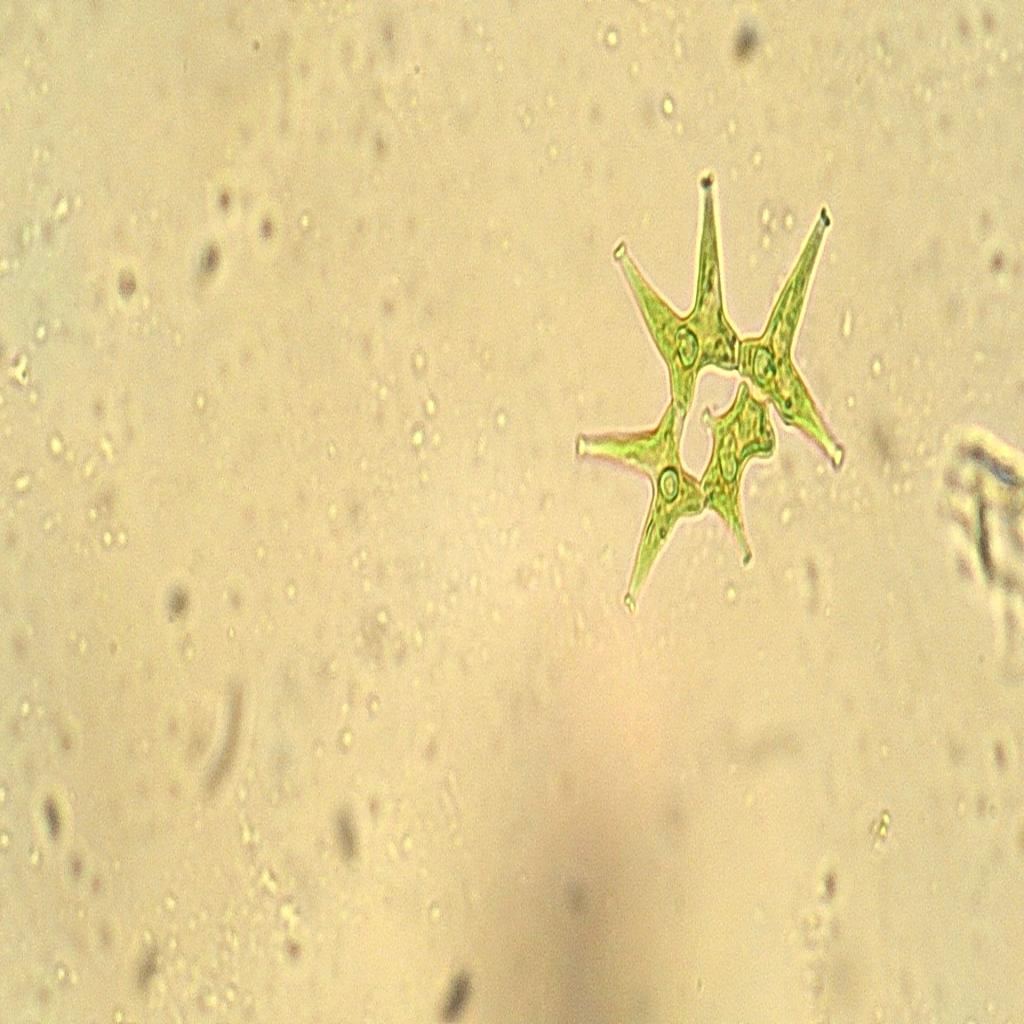Pediastrum_CF: (551, 155, 877, 657)
